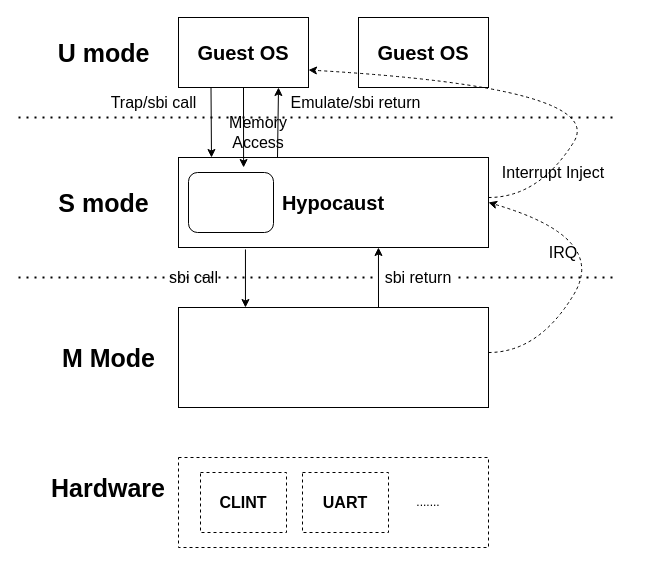
The diagram is 645 pixels wide and 565 high, and some of its shapes have lost their labels. Here are the shapes that lost their labels. From the top down, the centre of each, then its label:
the point at 231,202: SPT
the point at 333,357: RustSBI
